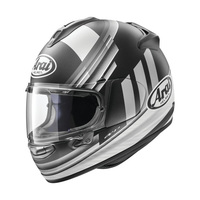with_helmet: (20, 12, 180, 183)
